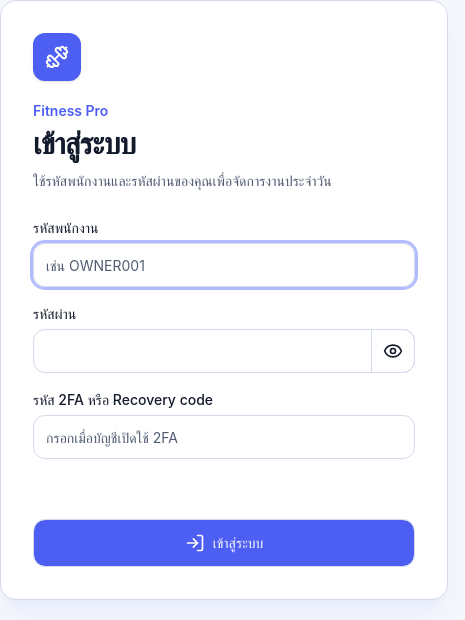
Test: LoginForm › แสดงข้อผิดพลาด schema ตรงไปตรงมาโดยไม่กล่าวโทษ credential
The image size is (465, 620).
In the field labelled "รหัสพนักงาน": {"x": 224, "y": 265} [33, 243, 415, 287], type "OWNER001"
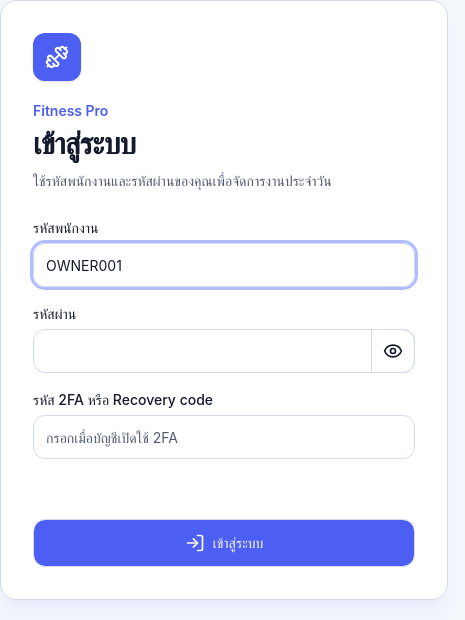
In the password field labelled "รหัสผ่าน": {"x": 224, "y": 351} [33, 329, 415, 373], type "ValidPass#2026"
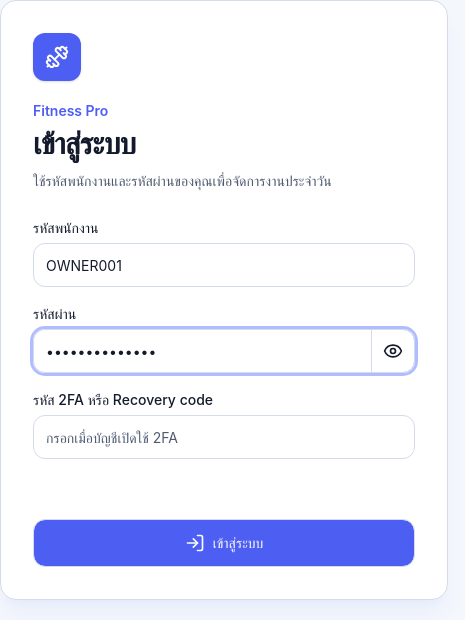
Click the button "เข้าสู่ระบบ": {"x": 224, "y": 543} [33, 519, 415, 567]
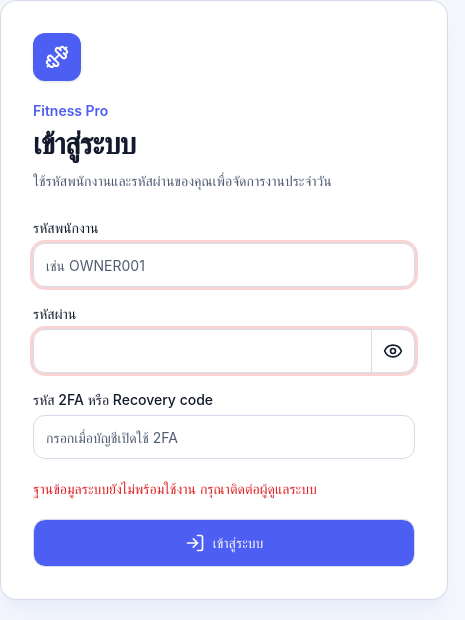
Check: the text "ฐานข้อมูลระบบยังไม่พร้อมใช้งาน กรุณาติดต่อผู้ดูแลระบบ" is shown, box [33, 480, 317, 497]
